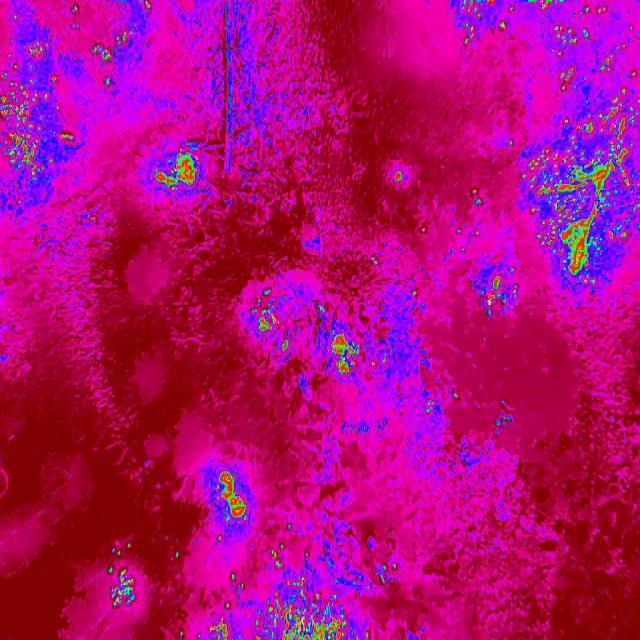fire: (199, 522, 387, 640), (532, 106, 640, 282), (527, 0, 640, 104), (0, 32, 54, 179), (418, 185, 488, 256), (106, 539, 140, 607), (456, 0, 507, 42), (154, 150, 198, 198), (90, 26, 130, 66), (218, 473, 250, 522), (328, 328, 358, 380), (252, 284, 279, 337), (482, 271, 504, 301), (57, 127, 79, 149), (389, 165, 409, 187), (276, 335, 290, 354)
